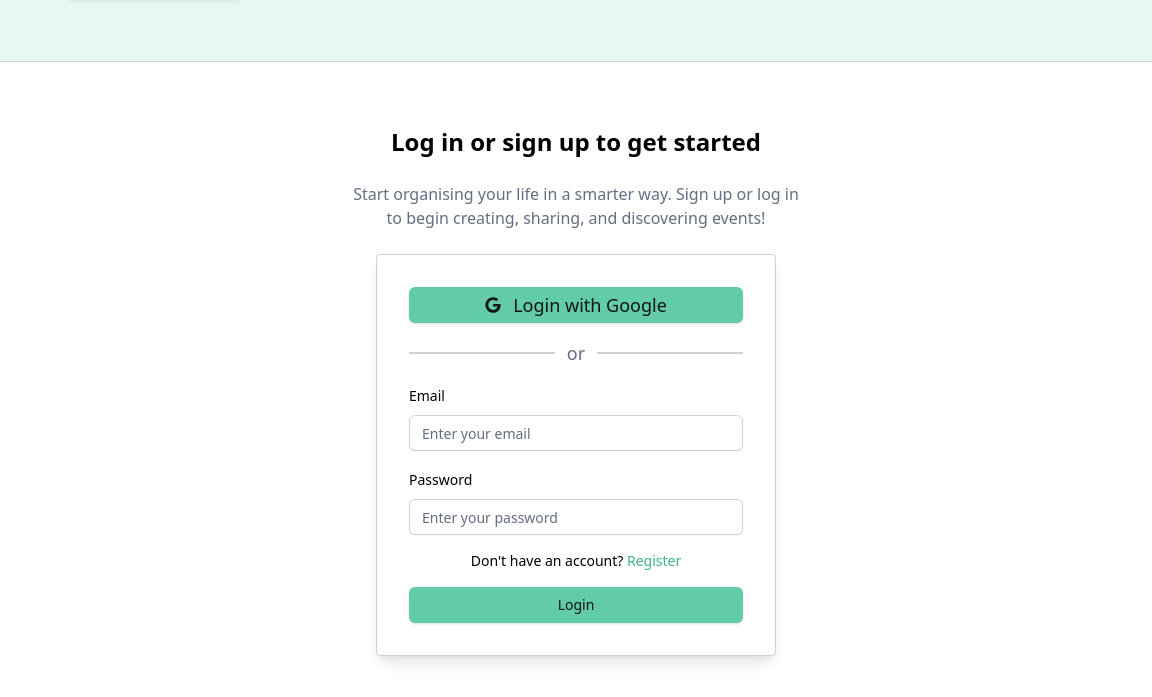
Test case: Authentication Flow (End-to-End) › Registration Flow › validates registration form fields
(page scrolled)
Switch to registration form by clicking the Register text span
Click the text "Register".
click(654, 561)  # box 627,551 -> 681,570
(page scrolled)
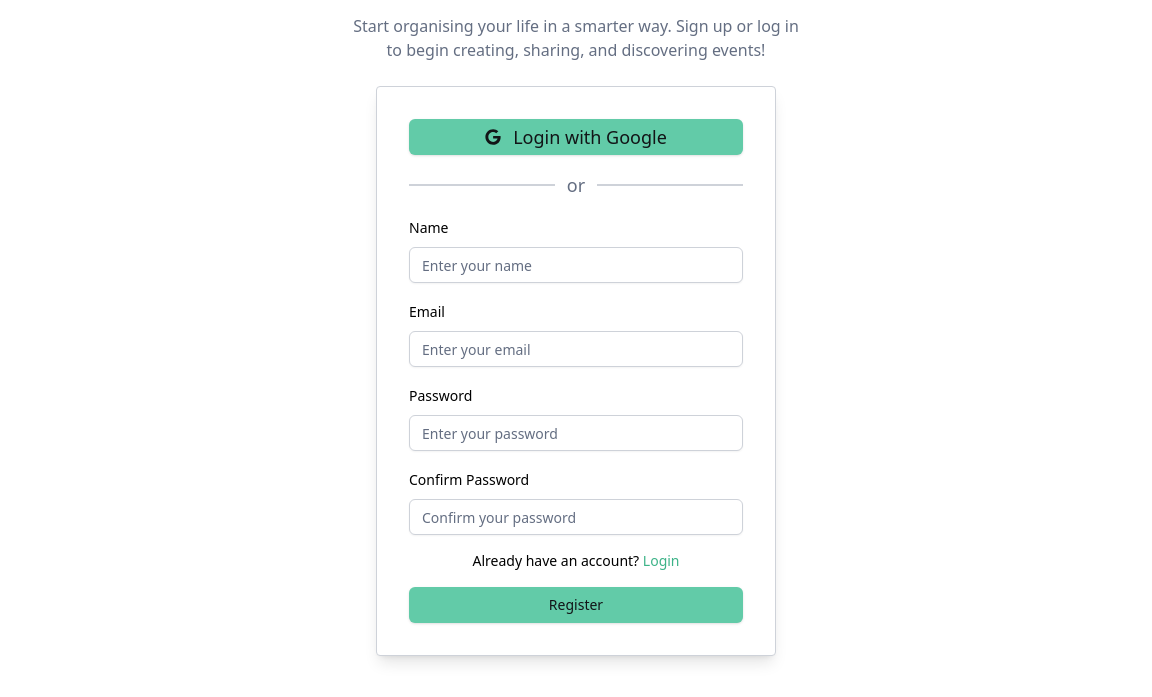
Submit empty form to trigger validation
Click the button "Register".
click(576, 605)  # box 409,587 -> 743,623
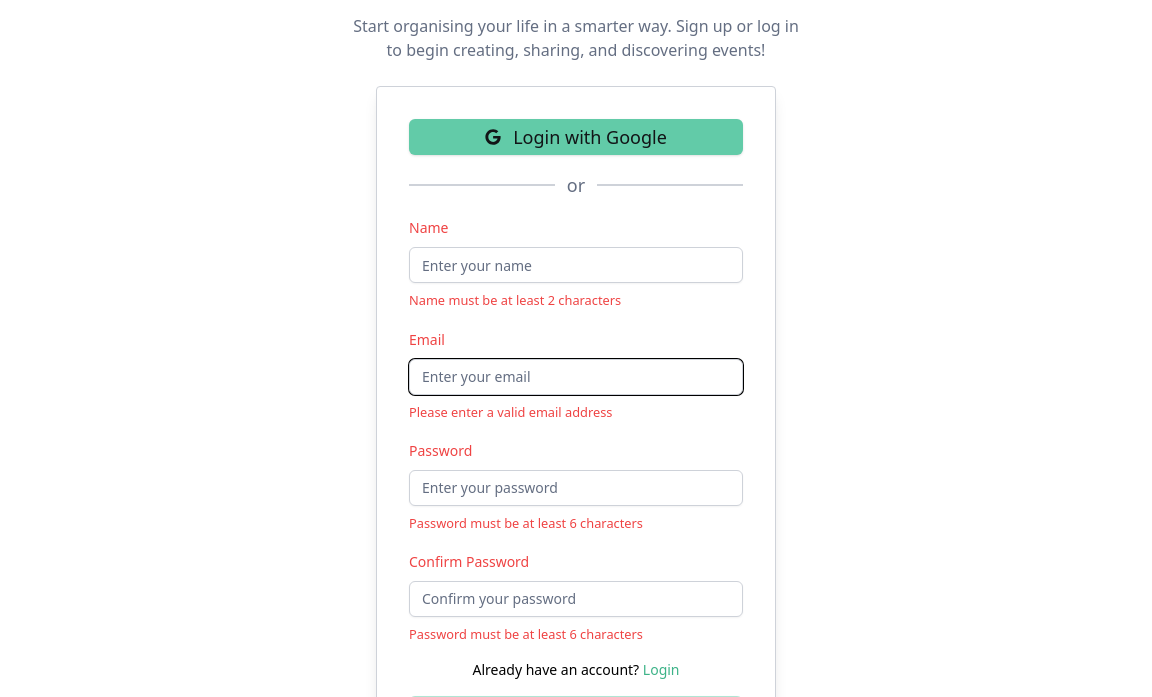
Result: the text "Name must be at least 2 characters" is shown at 409,291 -> 621,309
Result: the text "Please enter a valid email address" is shown at 409,402 -> 612,420
Result: the 1st text "Password must be at least 6 characters" is shown at 409,514 -> 643,532
